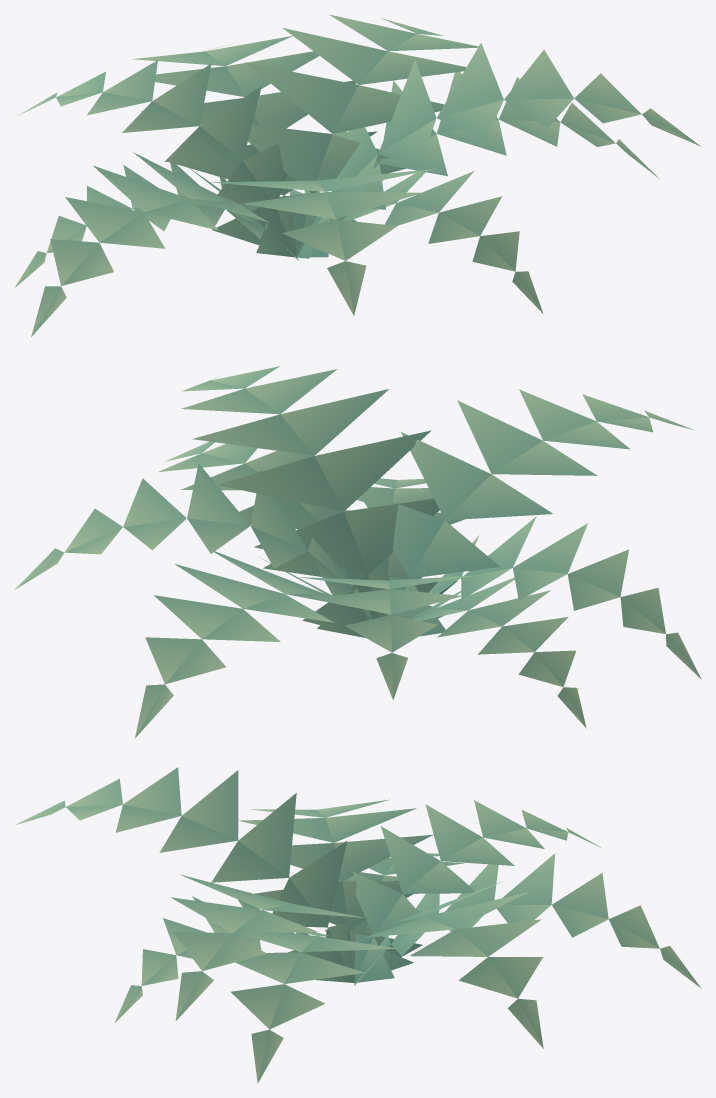
Rendered from fern_c.glb.
3 renders of one model, top to bottom at view 1: azimuth 30°, elevation 25°; view 2: azimuth 150°, elevation 25°; view 3: azimuth 270°, elevation 25°, orthographic. The views are drawn at different scales.
Parts seen in each view (by area): view 1: soft; view 2: soft; view 3: soft.
Part boxes in pixels (<box>): soft: <box>14,14,701,336</box>; soft: <box>14,366,701,738</box>; soft: <box>15,767,701,1083</box>.
Size of the model in its own units: 1.28 by 0.3371 by 1.38.
